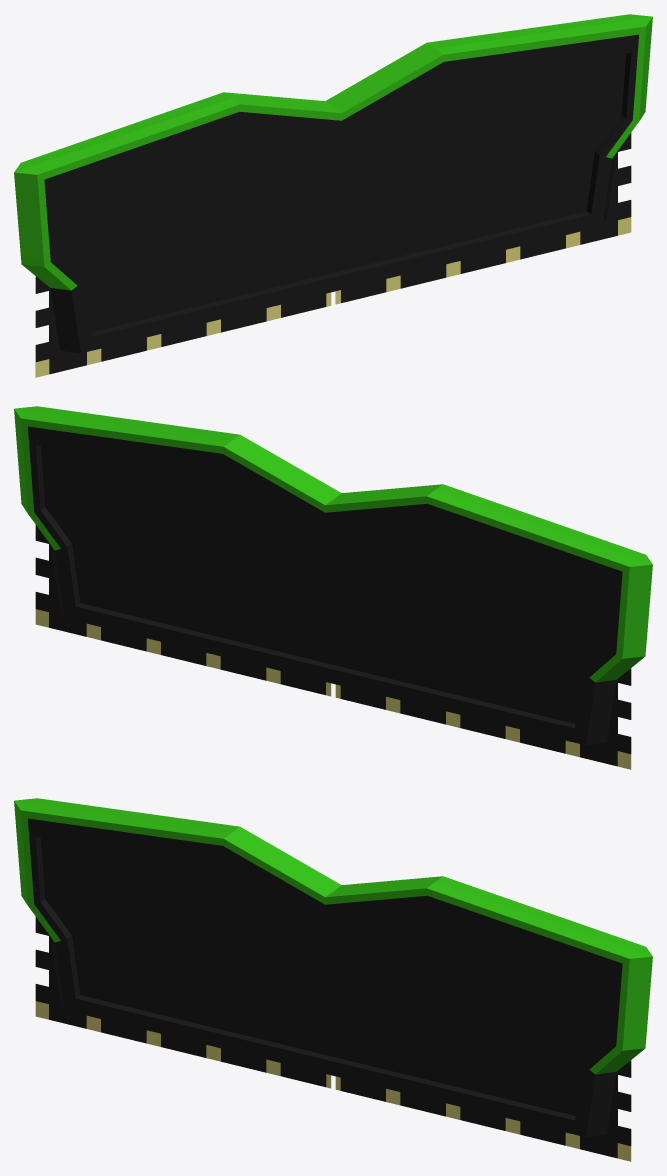
Rendered from ram.fbx.
3 renders of one model, top to bottom at view 1: azimuth 30°, elevation 25°; view 2: azimuth 150°, elevation 25°; view 3: azimuth 330°, elevation 25°, orthographic.
Visible parts, largest first — view 1: ram, pin; view 2: ram, pin; view 3: ram, pin.
Boxes of the visible parts, bbox=[...] form: ram: bbox=[14, 14, 652, 353]; pin: bbox=[35, 133, 631, 377]; ram: bbox=[14, 406, 652, 745]; pin: bbox=[35, 525, 631, 769]; ram: bbox=[14, 798, 652, 1137]; pin: bbox=[35, 917, 631, 1161].
Size of the model in its own units: 22.27 by 7.71 by 1.
